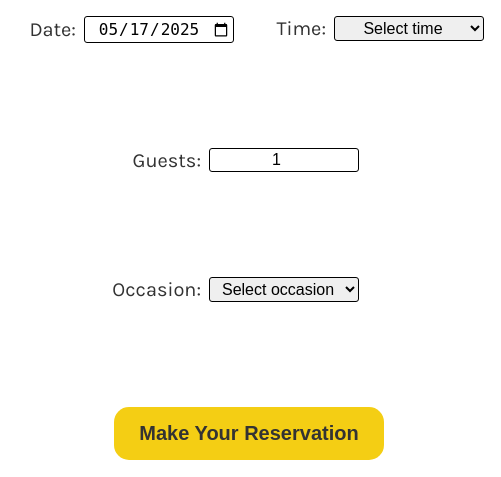
Test: Input validation tests › hides the validation error message when the date input has correct value
Type "2025-05-11" into the date field labelled "Date:" at point(159, 30), box [84,16,234,43]
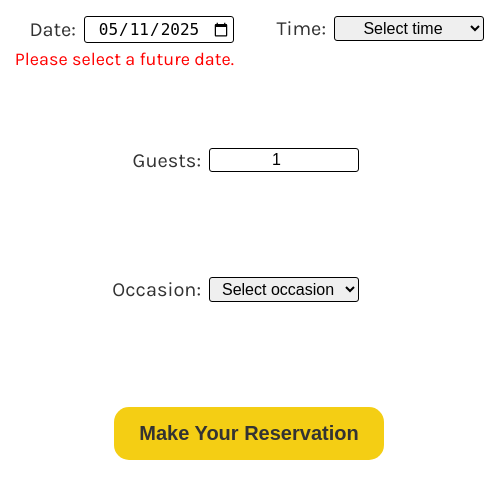
Type "2225-05-11" into the date field labelled "Date:" at point(159, 30), box [84,16,234,43]
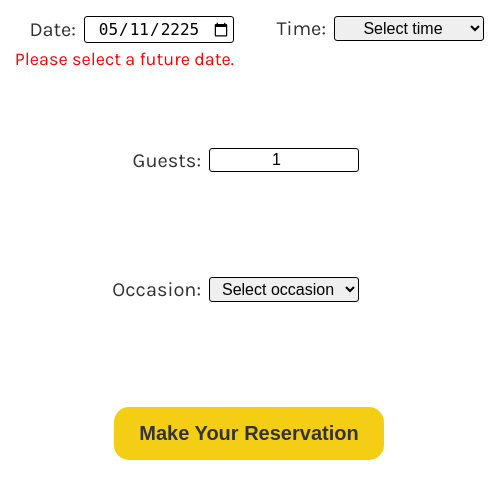
Leave the date field labelled "Date:", box [84,16,234,43]
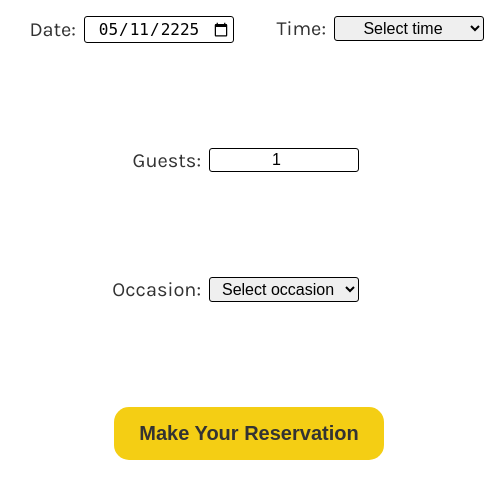
Expected: the text "Please select a future date." is gone
